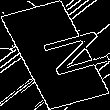N_W: (12, 27, 98, 83)
